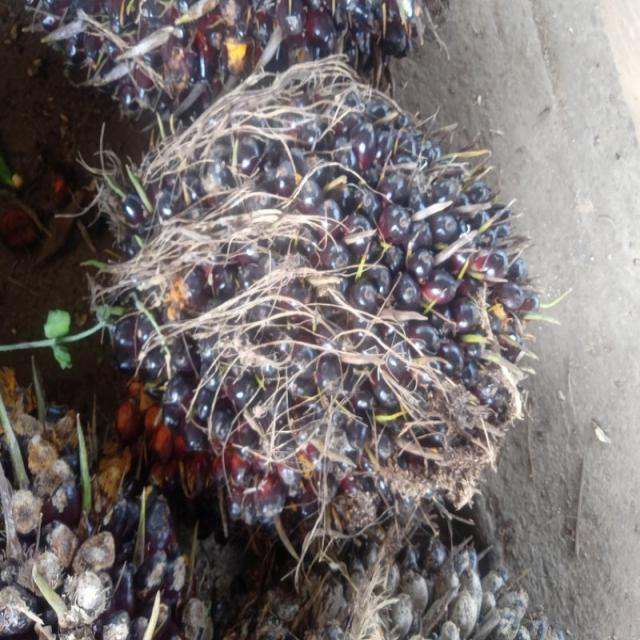fraksi 00: (89, 57, 550, 536)
